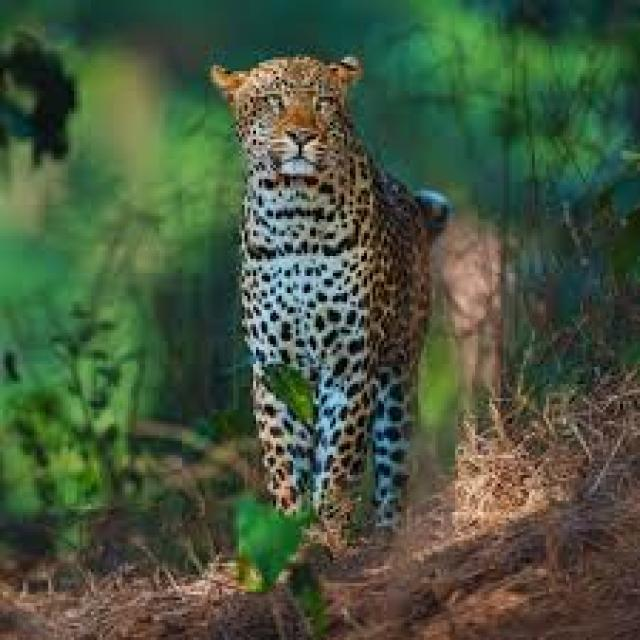Animal: (194, 28, 471, 570)
Forest: (0, 0, 640, 640)
